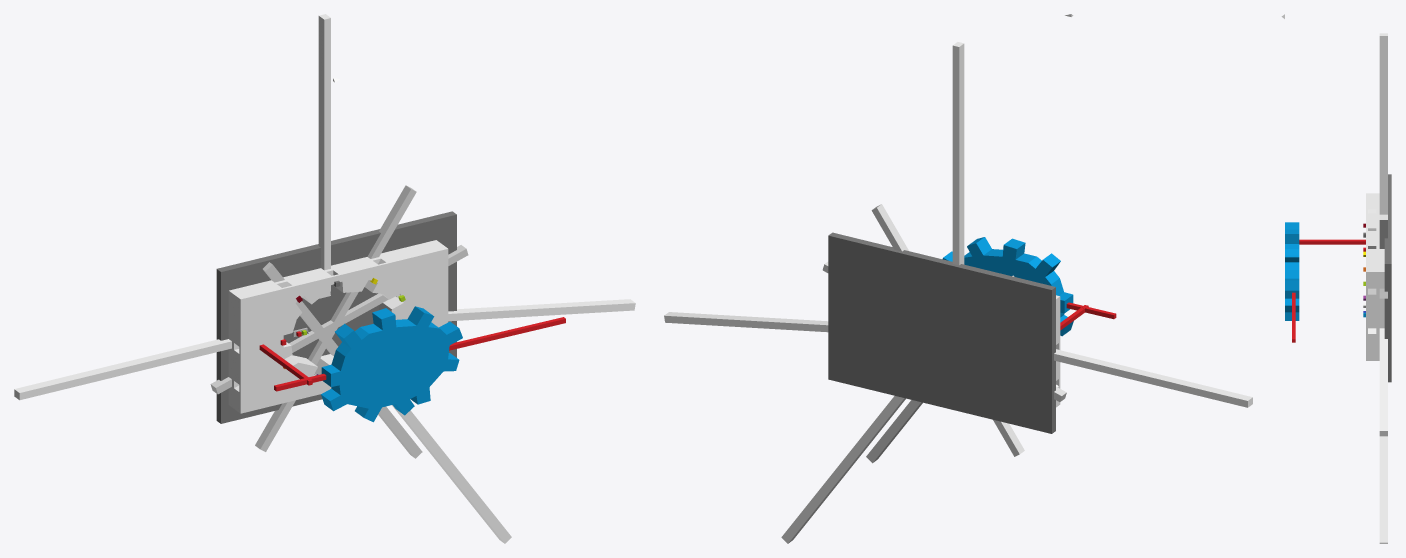
Rendered from gate_v5.obj.
The picture shows the model from 3 angles, left to right: view 1: azimuth 30°, elevation 25°; view 2: azimuth 150°, elevation 25°; view 3: azimuth 270°, elevation 25°; orthographic projection. The views are drawn at different scales.
Parts seen in each view (by area): view 1: Object.9, Object.2, Object.3, Object.4, Object.5, Object.7, Object.6, Object.8, Object.11; view 2: Object.3, Object.2, Object.5, Object.7, Object.4, Object.8, Object.6; view 3: Object.9, Object.5, Object.2, Object.3, Object.8, Object.6, Object.20, Object.4, Object.11.
Boxes of the visible parts, box(x1,y1,x2,y2) form: Object.9: box(228, 240, 448, 413); Object.2: box(321, 306, 462, 422); Object.3: box(216, 211, 456, 423); Object.4: box(210, 185, 468, 458); Object.5: box(318, 14, 330, 291); Object.7: box(14, 339, 231, 400); Object.6: box(448, 299, 635, 321); Object.8: box(392, 405, 511, 543); Object.11: box(274, 317, 565, 391); Object.3: box(828, 232, 1055, 433); Object.2: box(942, 237, 1073, 336); Object.5: box(952, 42, 964, 265); Object.7: box(1054, 349, 1252, 407); Object.4: box(822, 204, 1066, 463); Object.8: box(781, 396, 905, 543); Object.6: box(664, 312, 828, 332); Object.9: box(1366, 193, 1384, 360); Object.5: box(1379, 33, 1387, 214); Object.2: box(1285, 222, 1299, 320); Object.3: box(1384, 174, 1391, 382); Object.8: box(1379, 436, 1387, 543); Object.6: box(1379, 328, 1387, 436); Object.20: box(1299, 239, 1365, 244); Object.4: box(1379, 214, 1387, 298); Object.11: box(1292, 292, 1295, 342).
Bounding box in the file's own units: 750 × 661 × 149.
